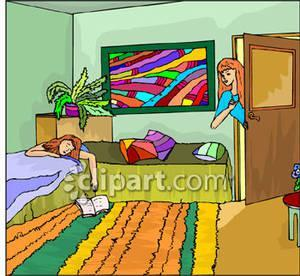person: (25, 132, 100, 190), (204, 57, 246, 129)
pottedplant: (46, 68, 106, 116)
